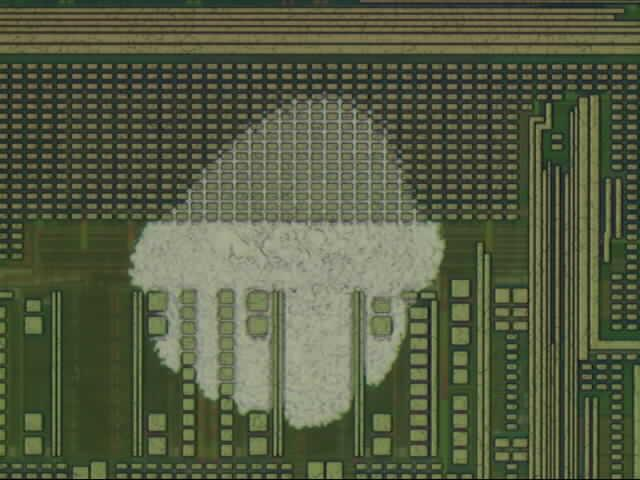BLOCK ETCH: (130, 89, 447, 428)
